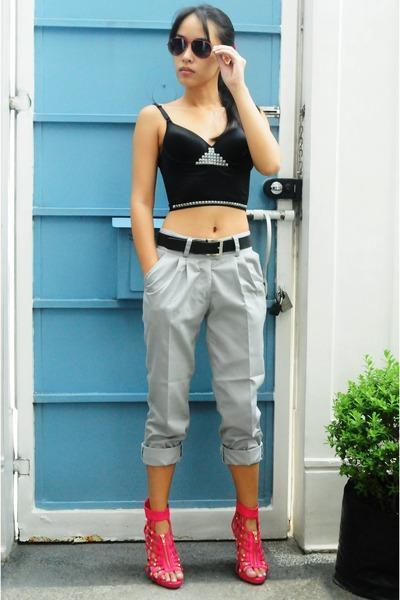trousers: (135, 233, 268, 469)
vest: (155, 96, 260, 209)
